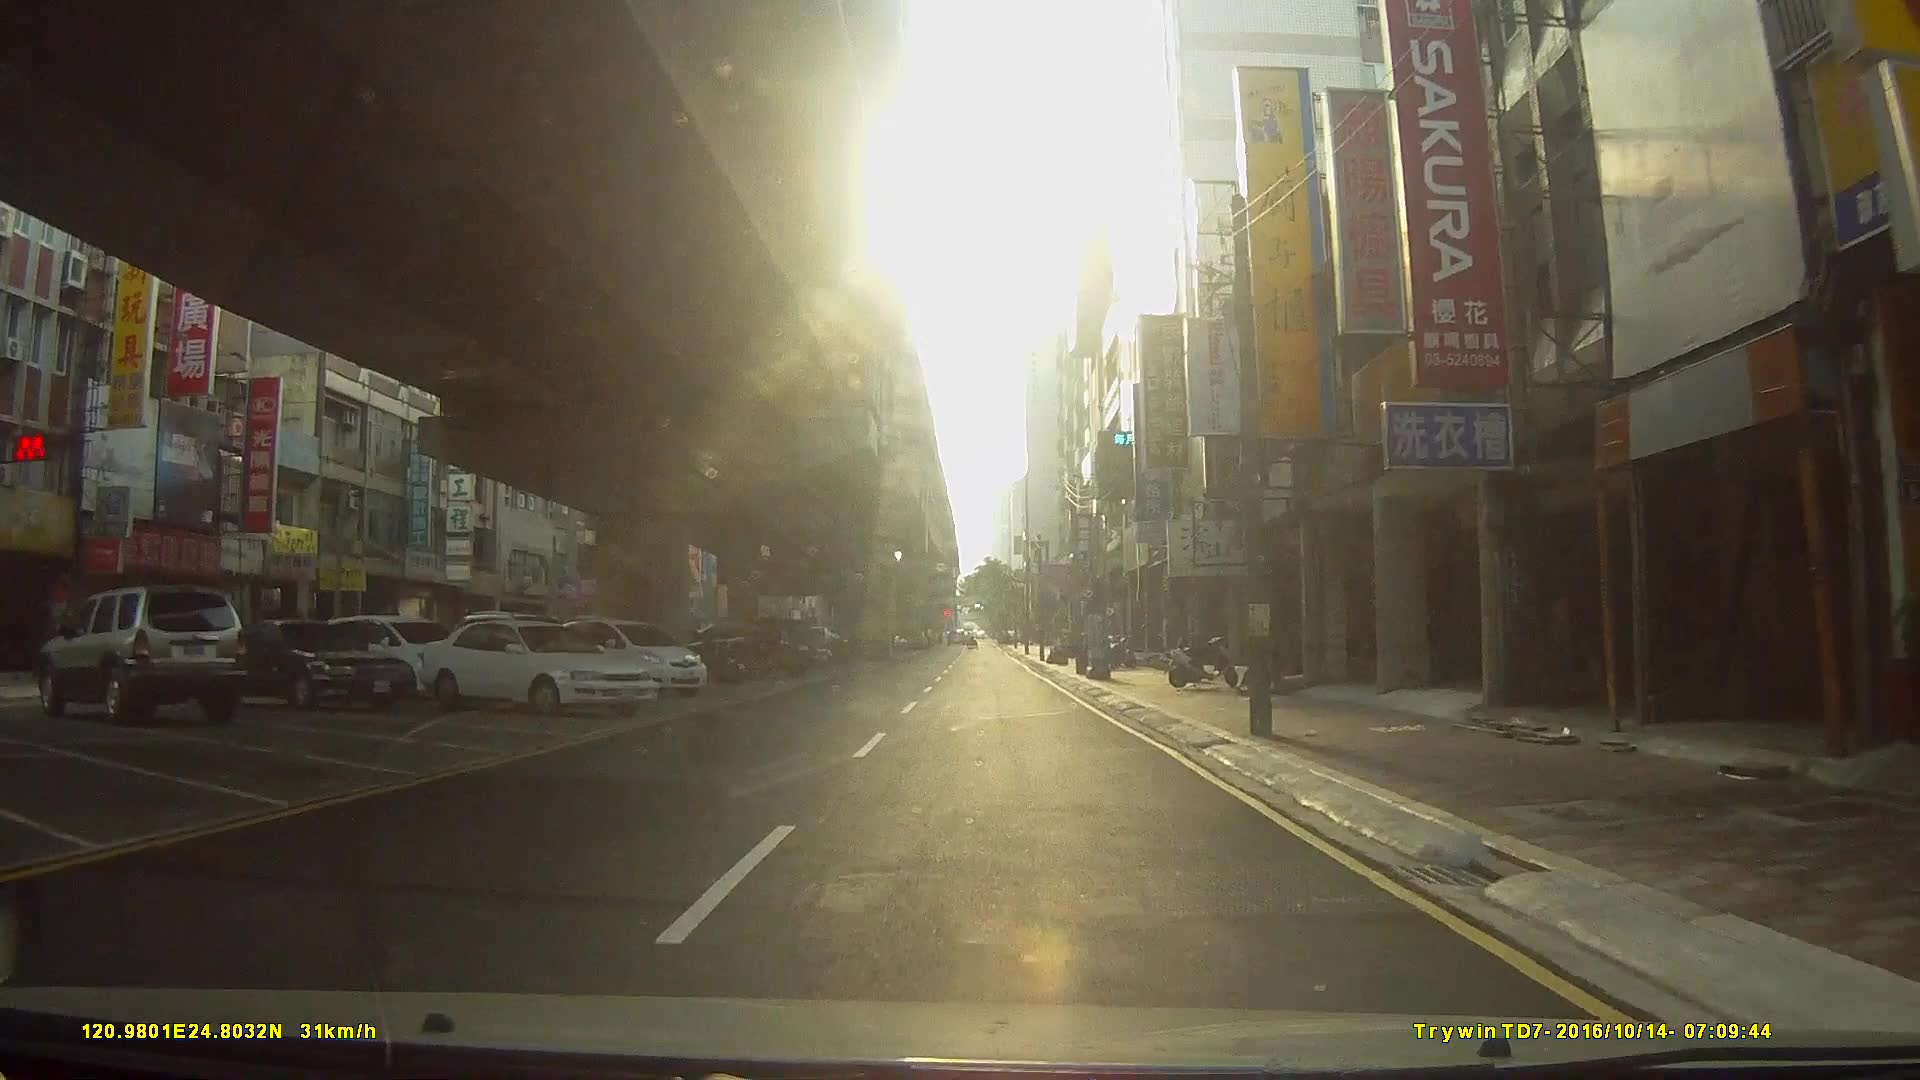vehicle: (33, 585, 247, 725), (413, 616, 659, 717), (190, 618, 411, 713), (545, 618, 704, 702)
